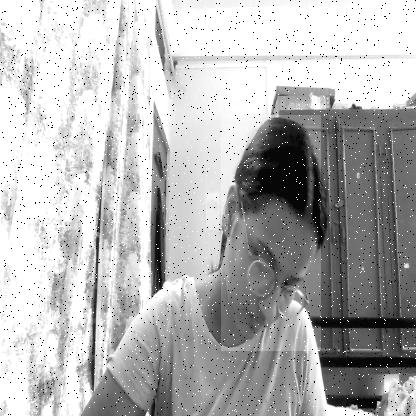Distracted: (221, 115, 321, 352)
